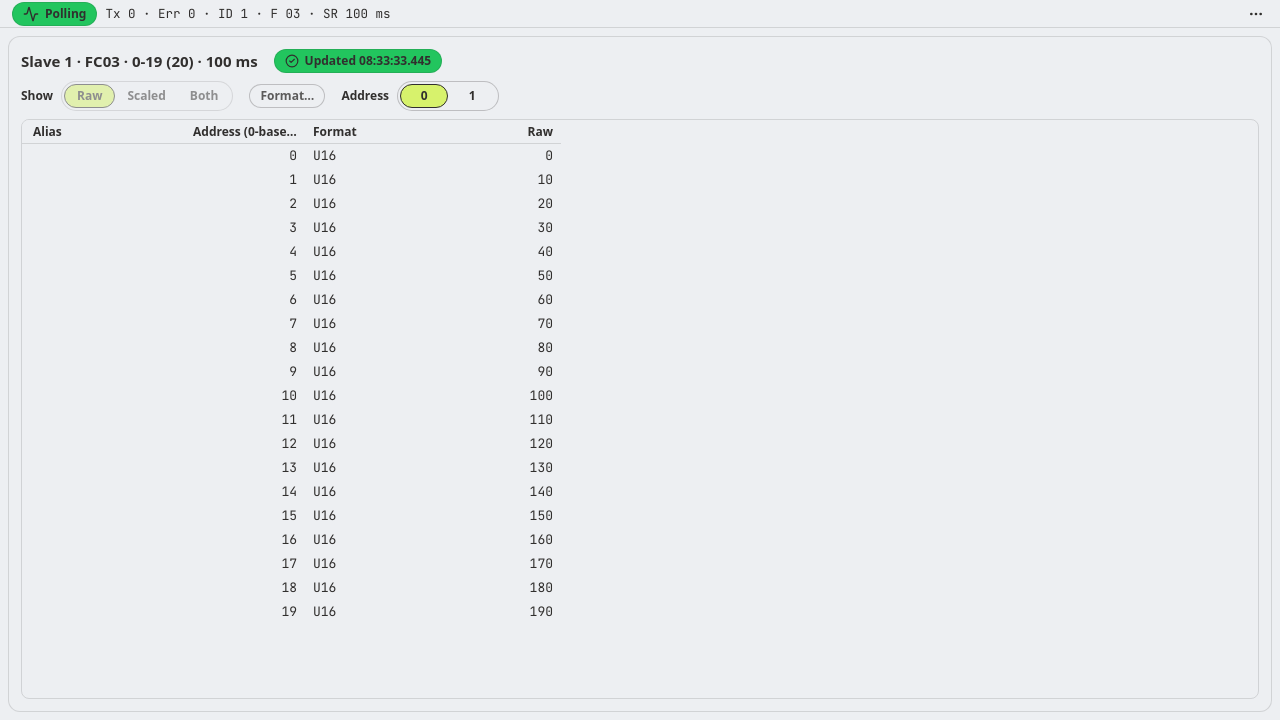
from the selected rows › Esc closes it without saving; nothing was sent
This screenshot has width=1280, height=720.
Step 1. Click the row "0 U16 0" → (293, 156), box [289,147,553,164]
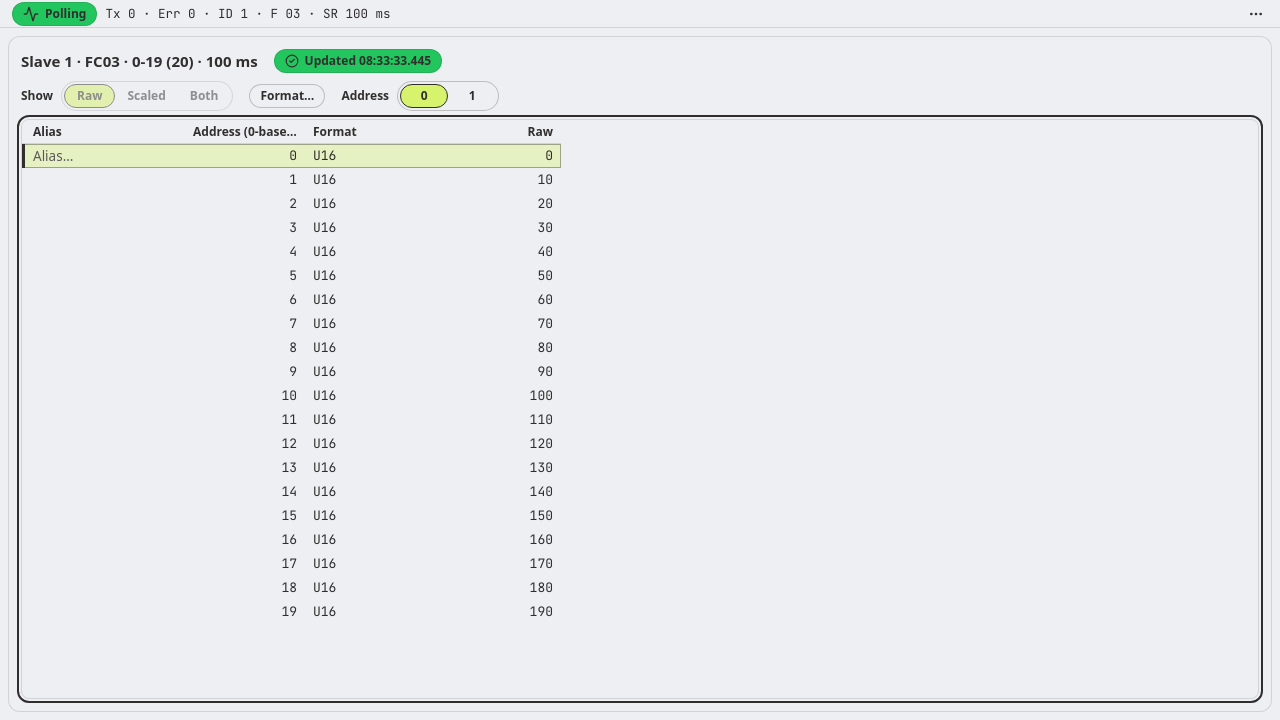
Step 2. Type keys "{Control>}"
Step 3. Click the row "1 U16 10" → (293, 180), box [289,171,553,188]
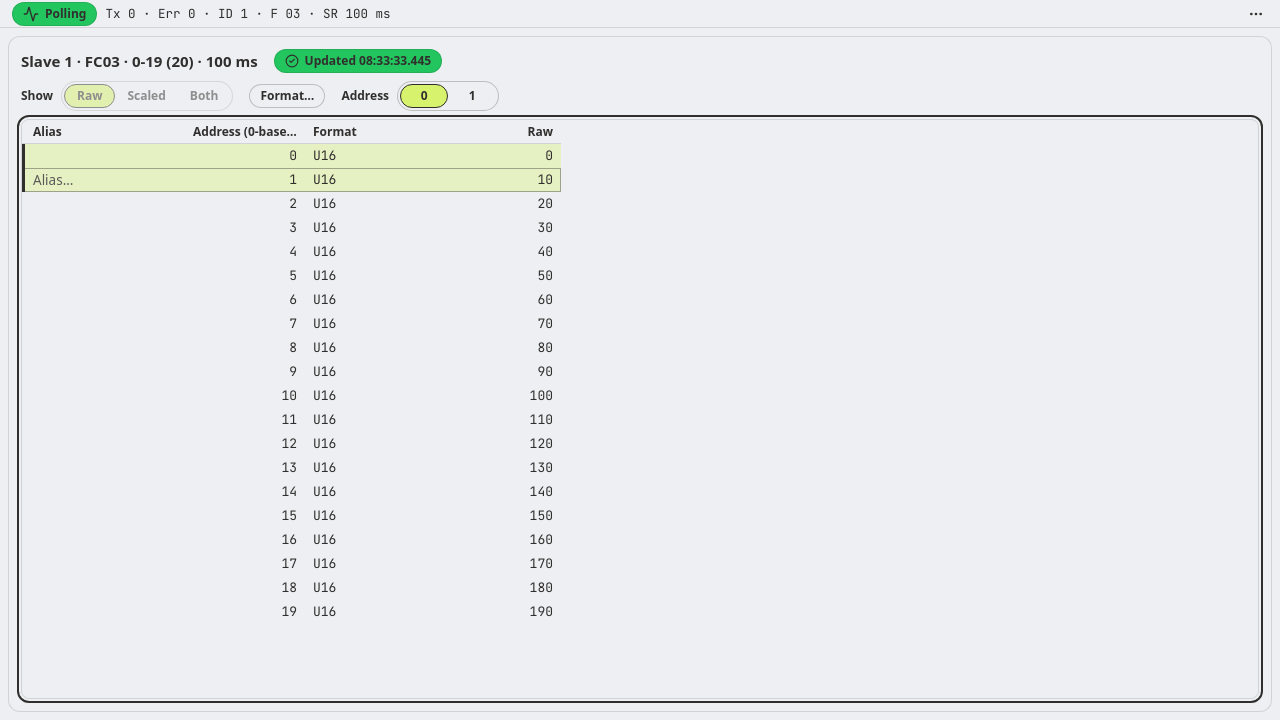
Step 4. Type keys "{/Control}"
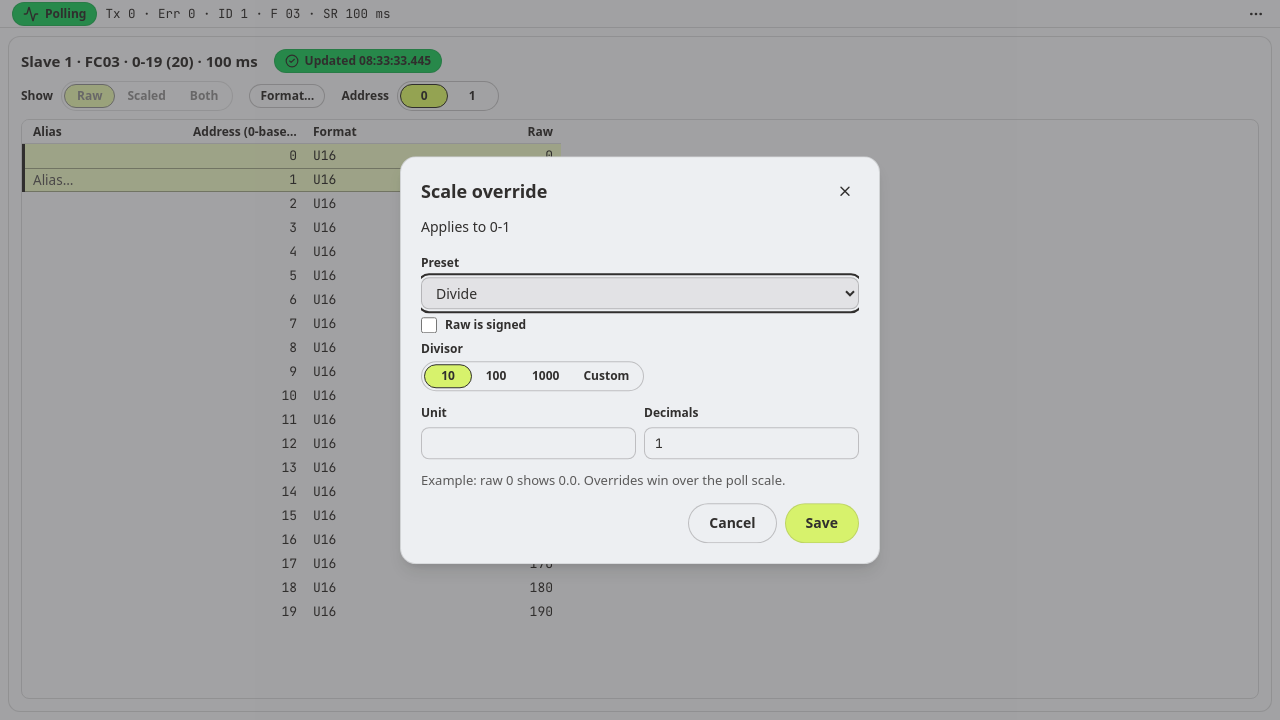
Result: the dialog is shown at [400,156,880,564]
Step 5. Press Escape
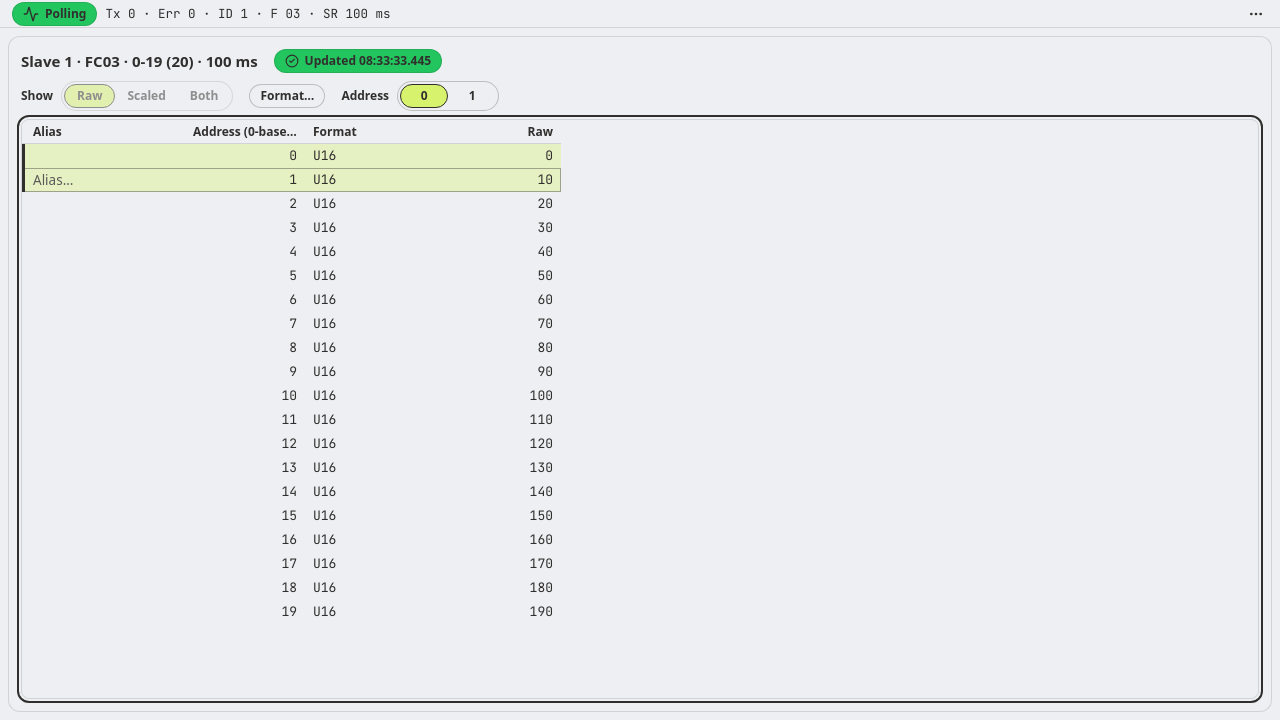
Result: the dialog is gone
